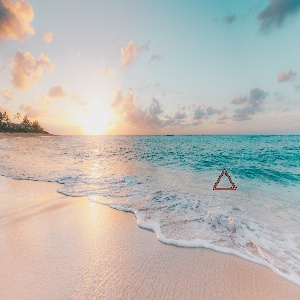triangle: (211, 167, 237, 192)
